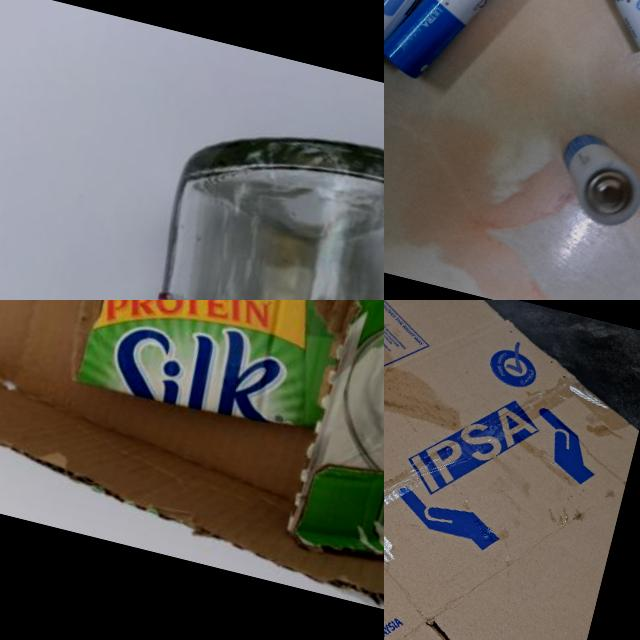bateria: (384, 0, 529, 97), (548, 130, 640, 231), (384, 0, 464, 72), (552, 0, 640, 58)
garrafa de vidro: (97, 100, 384, 300)
papelão: (0, 300, 384, 630), (384, 300, 640, 640)
